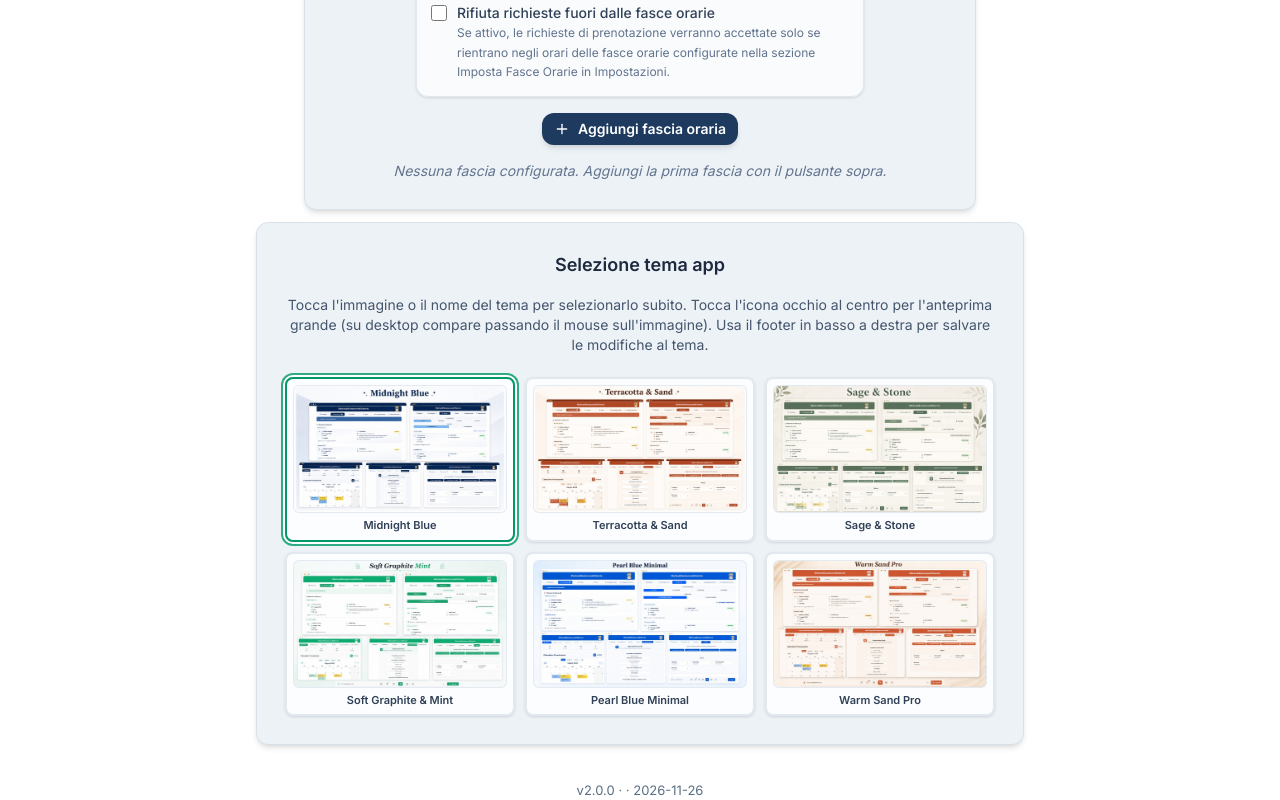
Test: settings-theme M4 — UI Impostazioni › scelta tema diversa imposta dirty e mostra footer
The width and height of the screenshot is (1280, 800).
(page scrolled)
Expected: the heading "Selezione tema app" is shown, top-left (555, 254), bottom-right (725, 275)
Expected: the element "modifiche non salvate" is not shown
Click the button "Terracotta & Sand" at (640, 525), box top-left (533, 517), bottom-right (747, 534)
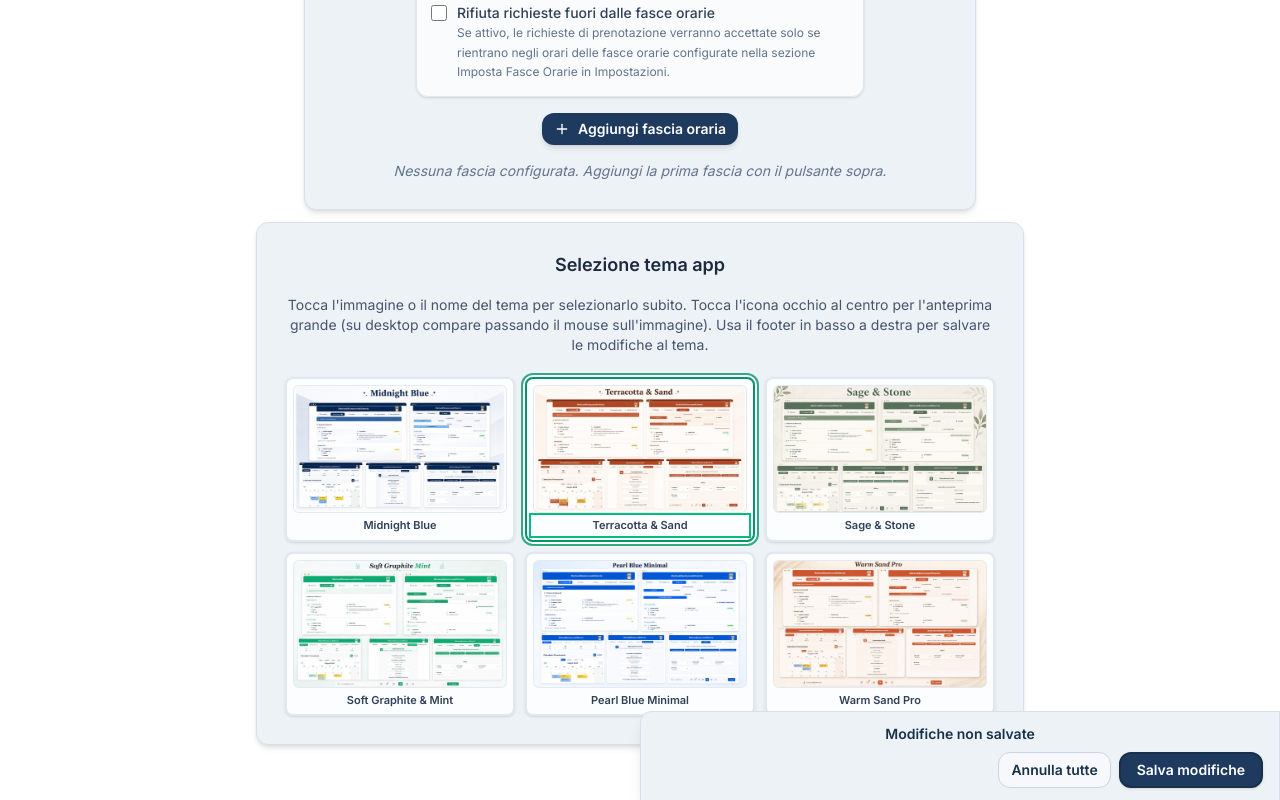
Now the element "Modifiche non salvate Annulla tutte Salva modifiche" is shown, box top-left (640, 712), bottom-right (1279, 799)
